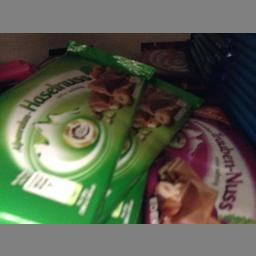chocolate: (1, 50, 135, 223), (145, 105, 255, 224)
